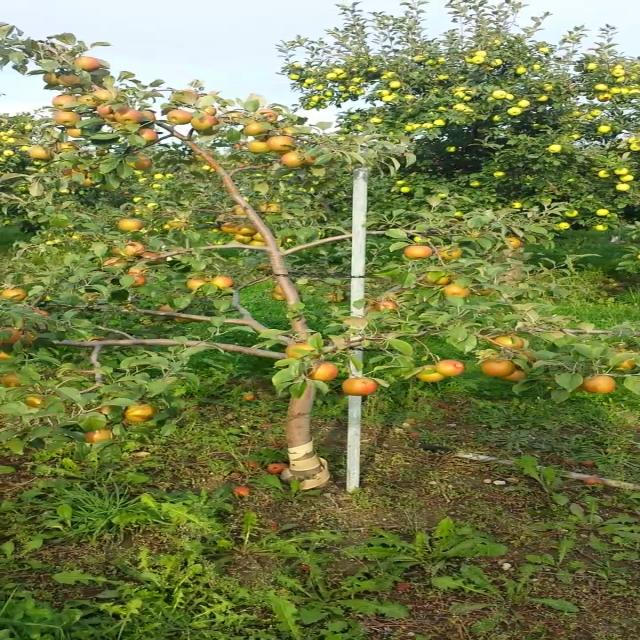apple: (340, 378, 380, 397), (282, 342, 322, 359), (582, 374, 616, 392), (483, 358, 513, 378), (414, 365, 447, 383), (434, 358, 465, 376), (125, 403, 156, 421), (51, 110, 81, 128), (308, 362, 338, 379), (267, 136, 297, 152), (0, 327, 25, 345), (442, 282, 470, 298), (402, 244, 433, 258), (165, 109, 192, 125), (114, 108, 140, 124), (191, 115, 217, 131), (73, 56, 100, 71), (242, 122, 270, 136), (50, 94, 74, 110), (279, 152, 303, 168), (2, 372, 24, 388), (1, 286, 26, 300), (495, 336, 524, 348), (254, 106, 278, 120), (28, 146, 52, 160), (258, 202, 282, 216), (122, 242, 146, 256), (438, 244, 462, 258), (122, 272, 146, 286), (59, 166, 86, 178), (116, 218, 143, 230), (141, 250, 167, 262), (84, 429, 110, 441), (246, 138, 268, 152), (184, 276, 209, 288), (137, 127, 158, 141), (24, 394, 45, 408), (102, 256, 126, 268), (502, 369, 526, 381), (97, 105, 119, 118), (238, 223, 260, 236), (612, 358, 634, 371), (180, 88, 202, 100), (212, 275, 234, 287), (373, 301, 399, 311), (92, 88, 113, 100), (55, 141, 77, 152), (58, 74, 78, 86), (78, 93, 98, 105), (135, 155, 151, 169), (505, 236, 523, 248), (225, 110, 246, 120), (230, 204, 247, 216), (110, 246, 130, 256), (323, 292, 343, 302), (217, 221, 235, 232), (302, 152, 316, 166), (164, 220, 188, 228), (433, 275, 451, 285), (157, 302, 175, 312), (125, 266, 147, 274), (66, 128, 84, 137), (42, 74, 58, 84), (199, 105, 215, 115), (271, 292, 287, 302), (32, 309, 52, 317), (142, 110, 156, 120), (234, 232, 248, 242), (252, 231, 266, 241), (172, 317, 194, 323), (100, 405, 111, 417), (279, 126, 295, 134), (247, 240, 265, 247), (472, 289, 493, 295), (0, 350, 12, 360), (82, 176, 93, 186), (276, 284, 286, 294)
